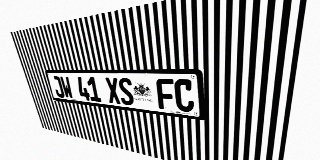1: (86, 77, 101, 102)
4: (75, 77, 91, 101)
C: (174, 79, 194, 113)
F: (156, 79, 175, 111)
J: (51, 76, 65, 98)
S: (117, 78, 135, 106)
W: (59, 76, 74, 99)
X: (104, 77, 121, 104)
